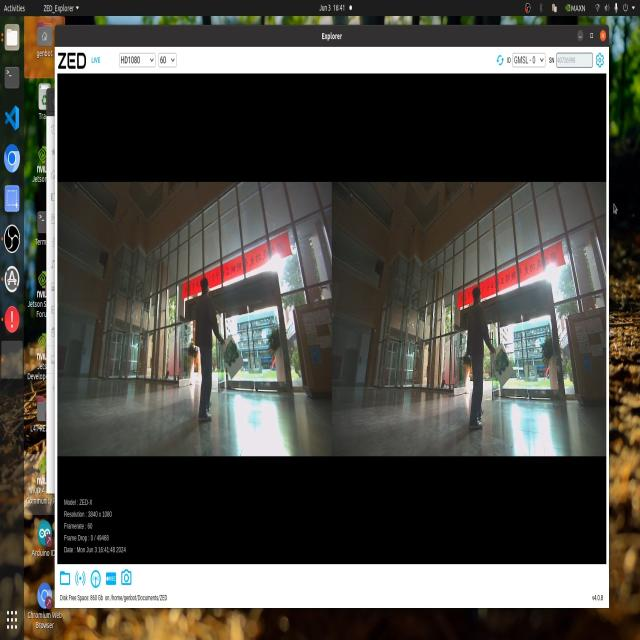green: (222, 341, 246, 372), (492, 350, 511, 377)
